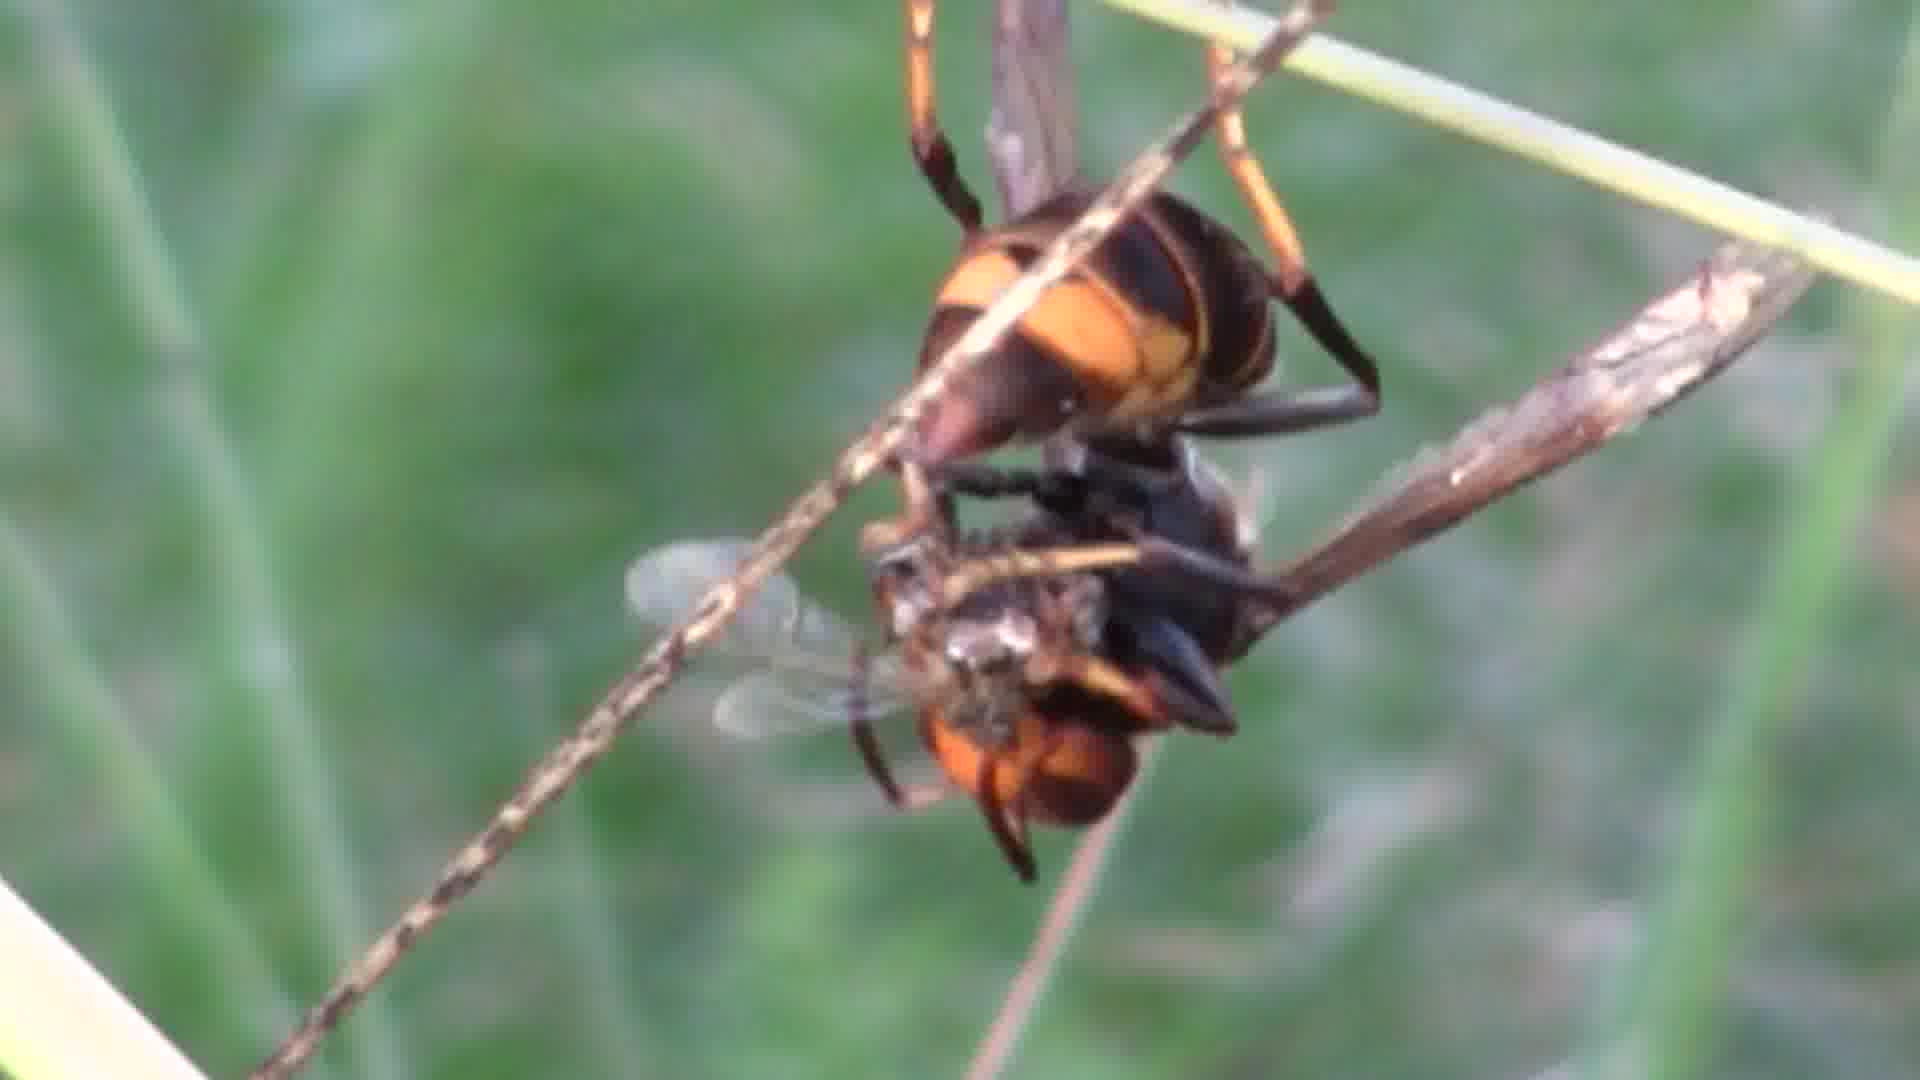hornet: (804, 9, 1396, 916)
